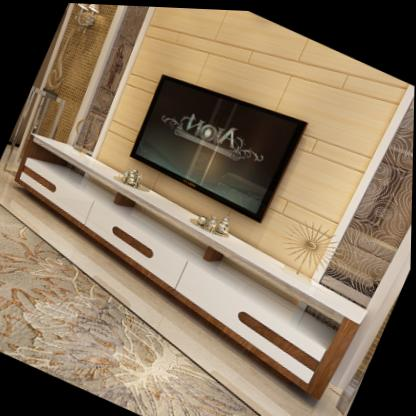TV stand: (0, 121, 383, 410)
